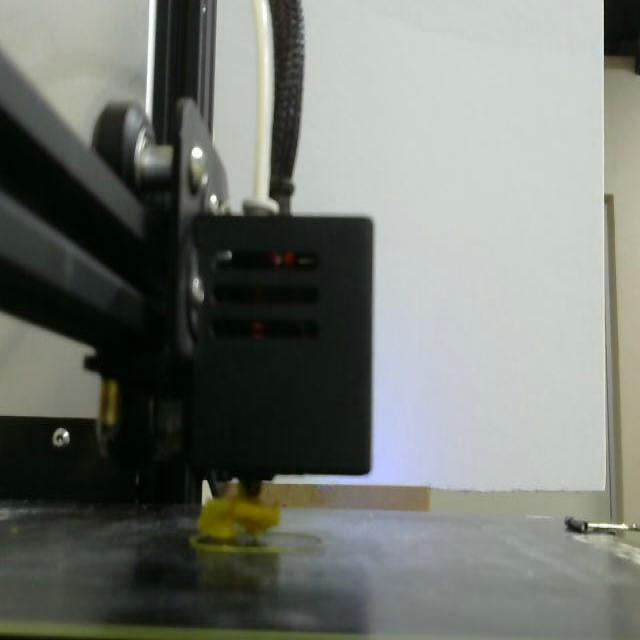spaghetti: (190, 490, 288, 550)
